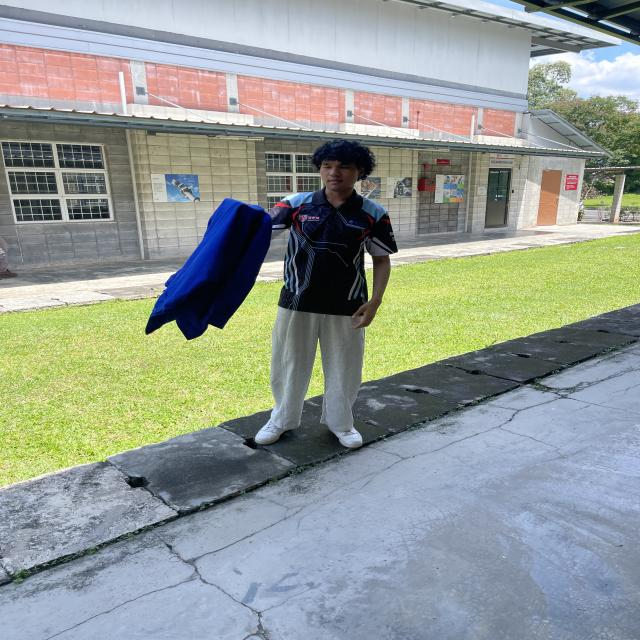person_without_labcoat: (145, 140, 397, 448)
